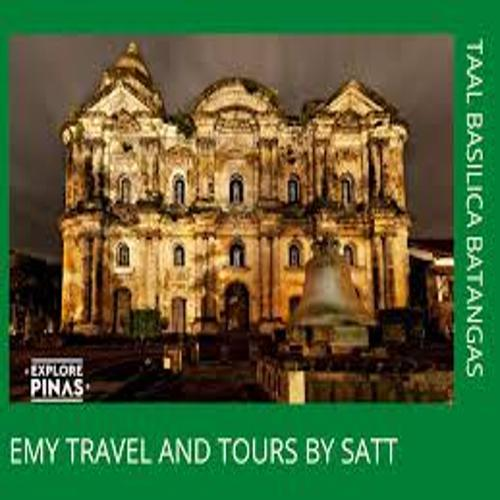Taal Basilica Church: (47, 41, 421, 330)
